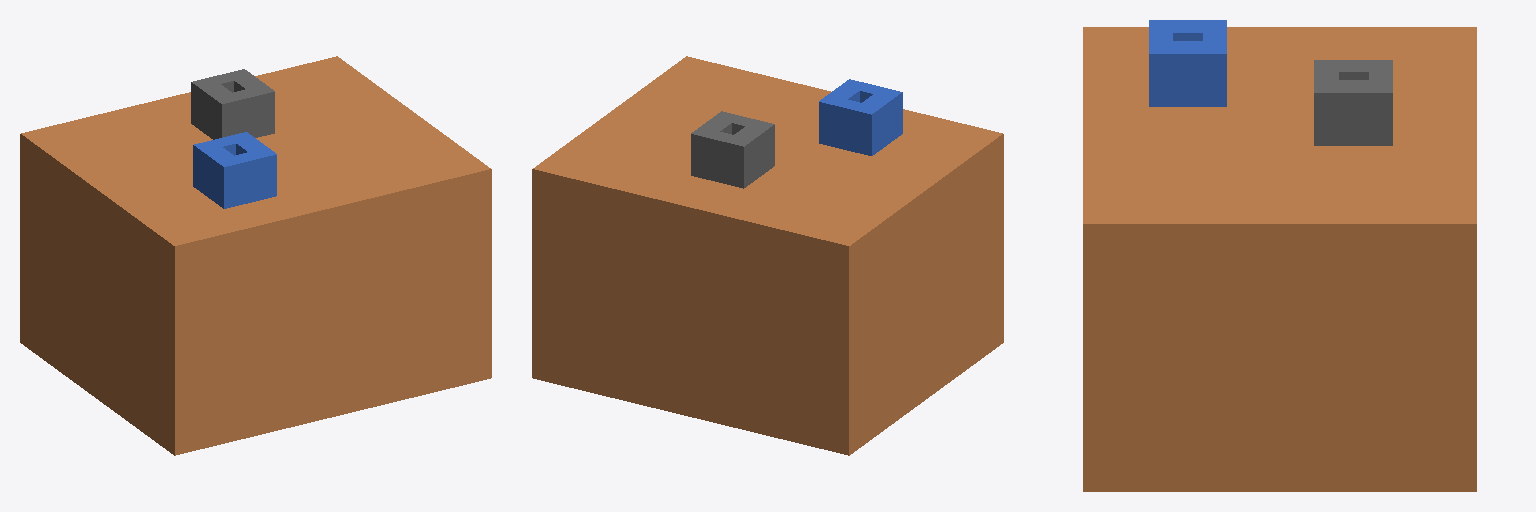
The robot description file, URDF, robot "peg_in_hole_fixtured_scene_0004_peg0004_tol01":
<?xml version="1.0"?>
<robot name="peg_in_hole_fixtured_scene_0004_peg0004_tol01">
  <material name="wood"><color rgba="0.82 0.56 0.35 1.0"/></material>
  <material name="start_fix"><color rgba="0.30 0.50 0.85 1.0"/></material>
  <material name="goal_fix"><color rgba="0.4706 0.4706 0.4706 1.0"/></material>
  <link name="box">
    <visual>
      <origin xyz="0.000000 0.000000 0.000000" rpy="0 0 0"/>
      <geometry><box size="0.475000 0.400000 0.300000"/></geometry>
      <material name="wood"/>
    </visual>
    <collision>
      <origin xyz="0.000000 0.000000 0.000000" rpy="0 0 0"/>
      <geometry><box size="0.475000 0.400000 0.300000"/></geometry>
    </collision>
    <visual>
      <origin xyz="-0.084880 -0.093471 0.155000" rpy="0 0 0"/>
      <geometry><box size="0.080000 0.080000 0.010000"/></geometry>
      <material name="start_fix"/>
    </visual>
    <collision>
      <origin xyz="-0.084880 -0.093471 0.155000" rpy="0 0 0"/>
      <geometry><box size="0.080000 0.080000 0.010000"/></geometry>
    </collision>
    <visual>
      <origin xyz="-0.059630 -0.093471 0.185000" rpy="0 0 0"/>
      <geometry><box size="0.029500 0.080000 0.050000"/></geometry>
      <material name="start_fix"/>
    </visual>
    <collision>
      <origin xyz="-0.059630 -0.093471 0.185000" rpy="0 0 0"/>
      <geometry><box size="0.029500 0.080000 0.050000"/></geometry>
    </collision>
    <visual>
      <origin xyz="-0.110130 -0.093471 0.185000" rpy="0 0 0"/>
      <geometry><box size="0.029500 0.080000 0.050000"/></geometry>
      <material name="start_fix"/>
    </visual>
    <collision>
      <origin xyz="-0.110130 -0.093471 0.185000" rpy="0 0 0"/>
      <geometry><box size="0.029500 0.080000 0.050000"/></geometry>
    </collision>
    <visual>
      <origin xyz="-0.084880 -0.065721 0.185000" rpy="0 0 0"/>
      <geometry><box size="0.021000 0.024500 0.050000"/></geometry>
      <material name="start_fix"/>
    </visual>
    <collision>
      <origin xyz="-0.084880 -0.065721 0.185000" rpy="0 0 0"/>
      <geometry><box size="0.021000 0.024500 0.050000"/></geometry>
    </collision>
    <visual>
      <origin xyz="-0.084880 -0.121221 0.185000" rpy="0 0 0"/>
      <geometry><box size="0.021000 0.024500 0.050000"/></geometry>
      <material name="start_fix"/>
    </visual>
    <collision>
      <origin xyz="-0.084880 -0.121221 0.185000" rpy="0 0 0"/>
      <geometry><box size="0.021000 0.024500 0.050000"/></geometry>
    </collision>
    <visual>
      <origin xyz="0.009365 0.075059 0.155000" rpy="0 0 0"/>
      <geometry><box size="0.080000 0.080000 0.010000"/></geometry>
      <material name="goal_fix"/>
    </visual>
    <collision>
      <origin xyz="0.009365 0.075059 0.155000" rpy="0 0 0"/>
      <geometry><box size="0.080000 0.080000 0.010000"/></geometry>
    </collision>
    <visual>
      <origin xyz="0.034507 0.075059 0.185000" rpy="0 0 0"/>
      <geometry><box size="0.029715 0.080000 0.050000"/></geometry>
      <material name="goal_fix"/>
    </visual>
    <collision>
      <origin xyz="0.034507 0.075059 0.185000" rpy="0 0 0"/>
      <geometry><box size="0.029715 0.080000 0.050000"/></geometry>
    </collision>
    <visual>
      <origin xyz="-0.015777 0.075059 0.185000" rpy="0 0 0"/>
      <geometry><box size="0.029715 0.080000 0.050000"/></geometry>
      <material name="goal_fix"/>
    </visual>
    <collision>
      <origin xyz="-0.015777 0.075059 0.185000" rpy="0 0 0"/>
      <geometry><box size="0.029715 0.080000 0.050000"/></geometry>
    </collision>
    <visual>
      <origin xyz="0.009365 0.102701 0.185000" rpy="0 0 0"/>
      <geometry><box size="0.020569 0.024715 0.050000"/></geometry>
      <material name="goal_fix"/>
    </visual>
    <collision>
      <origin xyz="0.009365 0.102701 0.185000" rpy="0 0 0"/>
      <geometry><box size="0.020569 0.024715 0.050000"/></geometry>
    </collision>
    <visual>
      <origin xyz="0.009365 0.047416 0.185000" rpy="0 0 0"/>
      <geometry><box size="0.020569 0.024715 0.050000"/></geometry>
      <material name="goal_fix"/>
    </visual>
    <collision>
      <origin xyz="0.009365 0.047416 0.185000" rpy="0 0 0"/>
      <geometry><box size="0.020569 0.024715 0.050000"/></geometry>
    </collision>
    <inertial>
      <mass value="500"/>
      <friction value="1.0"/>
      <inertia ixx="1000.0" ixy="0.0" ixz="0.0" iyy="1000.0" iyz="0.0" izz="1000.0"/>
    </inertial>
  </link>
</robot>

--- Facts derived from the render (not from the file) ---
Views: 3 orthographic renders of the robot side by side, from view 1: azimuth 30°, elevation 25°; view 2: azimuth 150°, elevation 25°; view 3: azimuth 270°, elevation 25°.
Model peg_in_hole_fixtured_scene_0004_peg0004_tol01 with 1 links and 0 joints (none), rooted at box, posed all joints at 0.
Links seen in each view (by area): view 1: box; view 2: box; view 3: box.
Boxes of the visible links, x1,y1,x2,y2 form: box: (20,56,491,455); box: (532,56,1003,455); box: (1083,20,1476,491).
Size in the robot's own frame: 0.475 by 0.4 by 0.36 metres.
Geometry: primitives only (box / cylinder / sphere), no mesh files.
